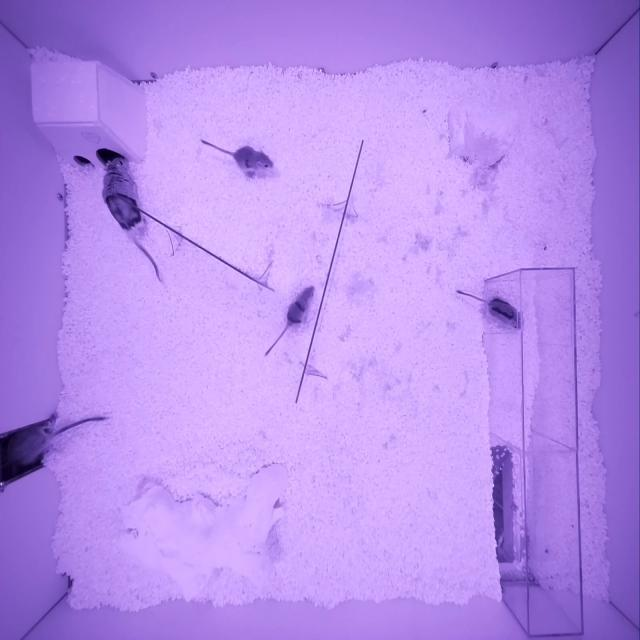adult_back: (103, 158, 143, 232)
adult_front: (8, 425, 47, 476)
pup_h_stripe: (287, 287, 314, 325)
pup_spotted: (233, 146, 273, 171)
pup_v_stripe: (488, 299, 523, 330)
